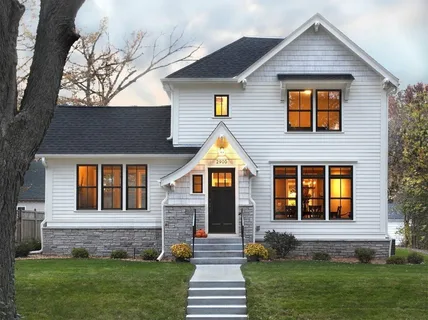private_hause: (70, 19, 402, 266)
